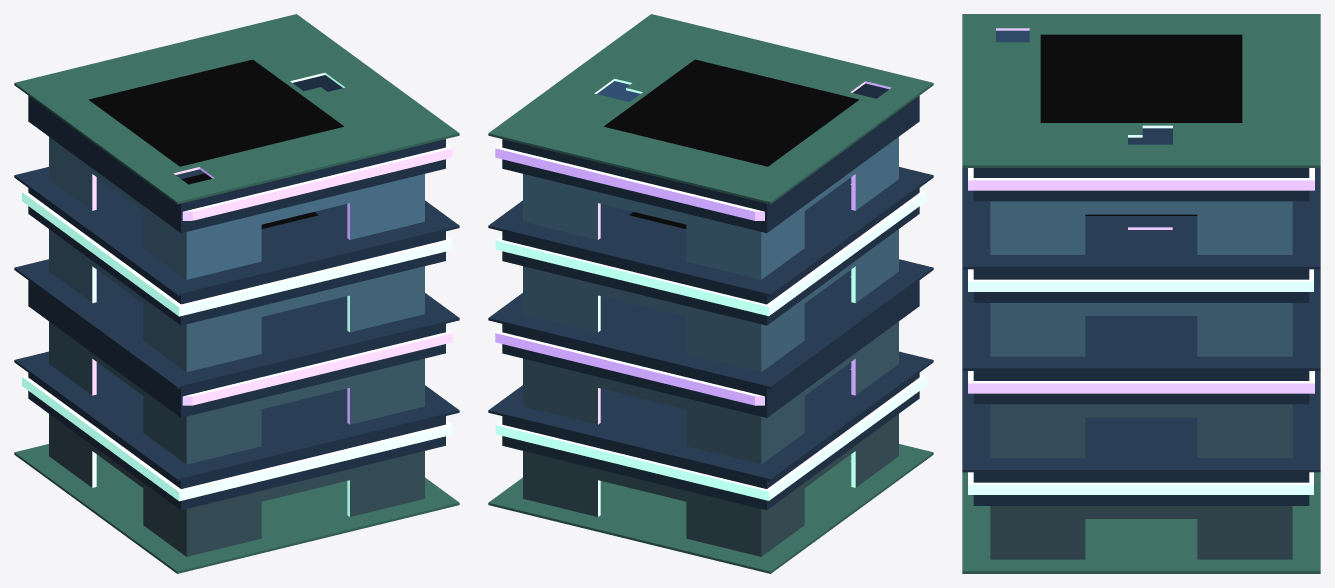
Rendered from StudzDragonMoonRoof_Final.gltf.
3 renders of one model, left to right at view 1: azimuth 30°, elevation 25°; view 2: azimuth 150°, elevation 25°; view 3: azimuth 270°, elevation 25°, orthographic. The views are drawn at different scales.
Visible parts, largest first — view 1: Studz Dragon; view 2: Studz Dragon; view 3: Studz Dragon.
Part boxes in pixels (x1,y1,x2,y2): Studz Dragon: (14, 14, 459, 573); Studz Dragon: (488, 14, 933, 573); Studz Dragon: (962, 14, 1320, 573).
Size of what is drawn, in the model's own units: 32 by 40.25 by 32.
4 materials, 1 textured.
